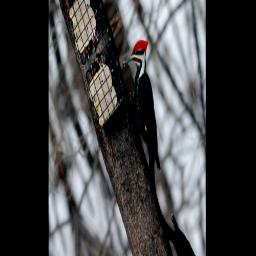Woodpecker: (109, 27, 182, 216)
